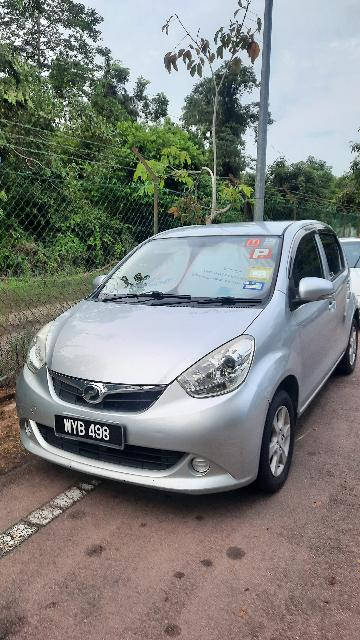License_Plate: (55, 411, 127, 454)
car: (14, 219, 360, 503)
